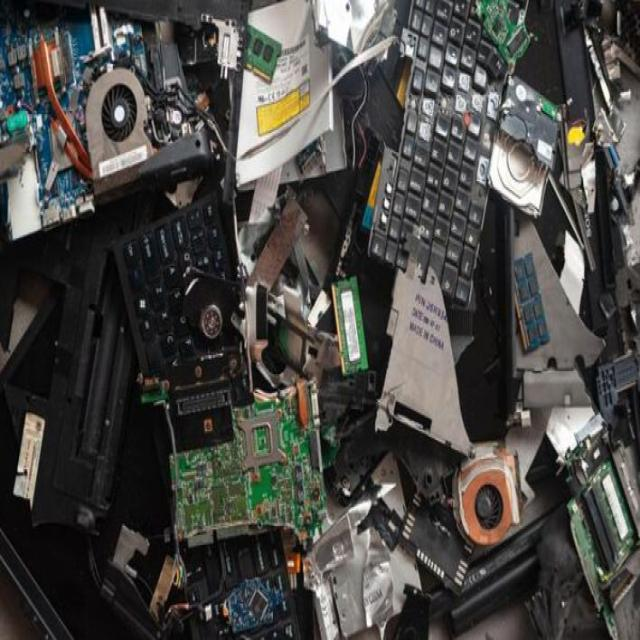electronic: (1, 0, 638, 639)
